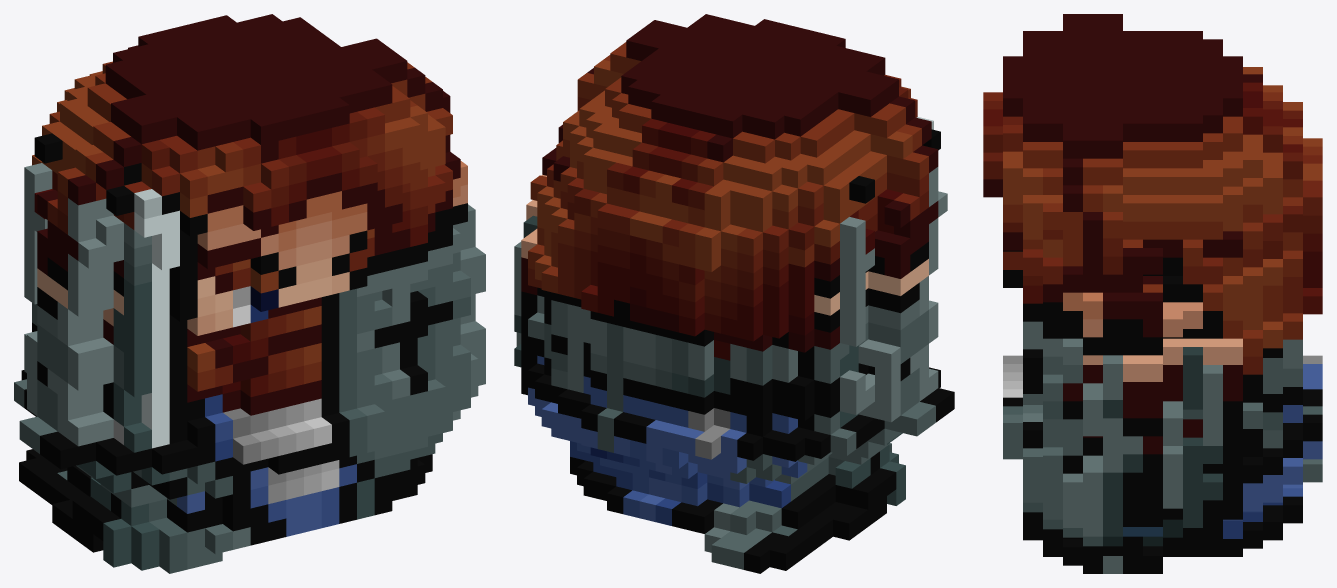
File: Icon_029_03.obj
3 views of the same model, side by side, from view 1: azimuth 30°, elevation 25°; view 2: azimuth 150°, elevation 25°; view 3: azimuth 270°, elevation 25° (orthographic). The views are drawn at different scales.
Size of the model in its own units: 2.4 by 2.4 by 1.7.
